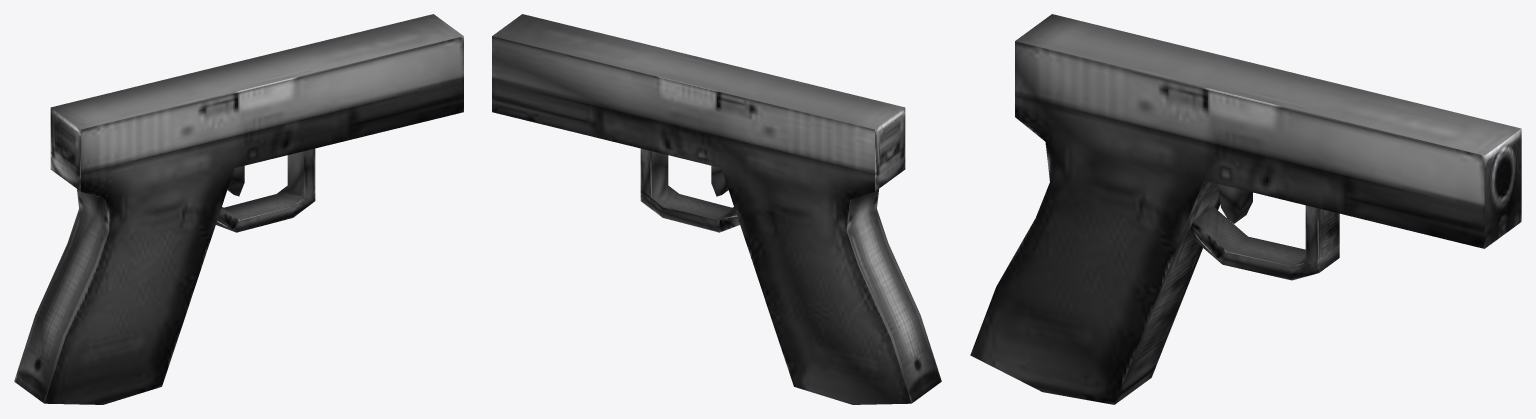
Rendered from glock.FBX.
The picture shows the model from 3 angles, left to right: view 1: azimuth 30°, elevation 25°; view 2: azimuth 150°, elevation 25°; view 3: azimuth 330°, elevation 25°; orthographic projection. The views are drawn at different scales.
Parts seen in each view (by area): view 1: glock; view 2: glock; view 3: glock.
Boxes of the visible parts, x1=… form: glock: x1=14, y1=14, x2=463, y2=404; glock: x1=492, y1=14, x2=941, y2=404; glock: x1=970, y1=14, x2=1521, y2=404.
Size of the model in its own units: 46.98 by 30.05 by 5.88.
